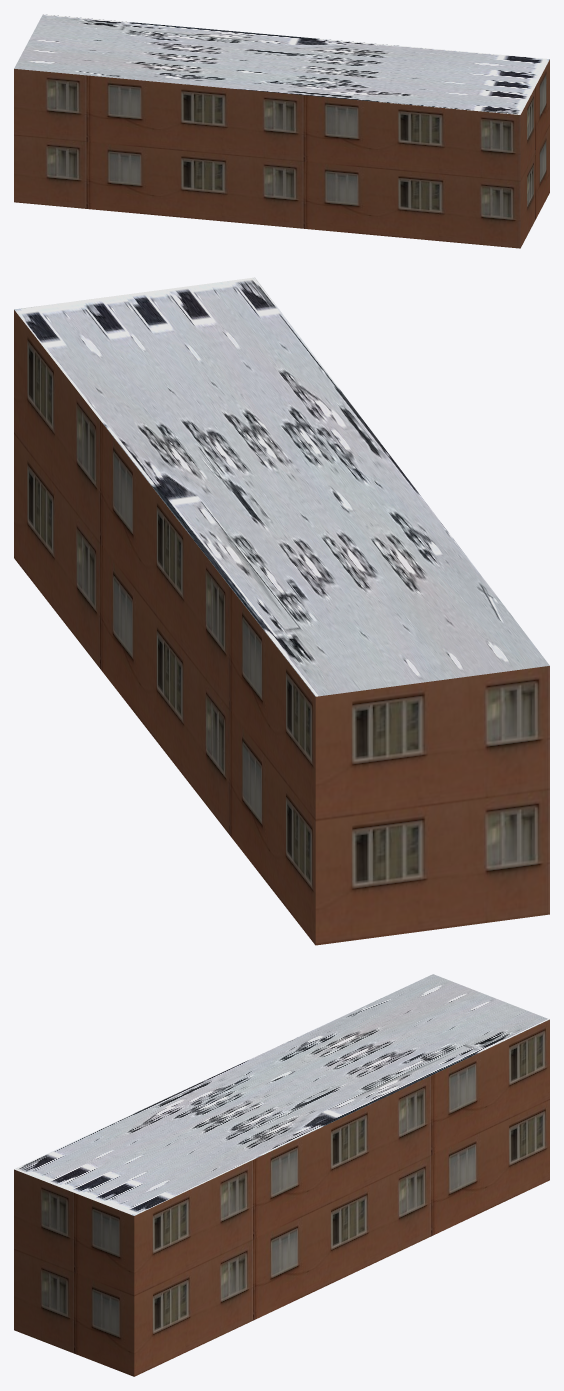
Rendered from ResTex__466.fbx.
The picture shows the model from 3 angles, top to bottom: view 1: azimuth 30°, elevation 25°; view 2: azimuth 150°, elevation 25°; view 3: azimuth 270°, elevation 25°; orthographic projection. The views are drawn at different scales.
Visible parts, largest first — view 1: CityEngineMaterial_20_m, CityEngineMaterial_4_m; view 2: CityEngineMaterial_20_m, CityEngineMaterial_4_m; view 3: CityEngineMaterial_20_m, CityEngineMaterial_4_m.
Part boxes in pixels (bbox=[...]): CityEngineMaterial_20_m: bbox=[14, 59, 549, 248]; CityEngineMaterial_4_m: bbox=[14, 14, 549, 114]; CityEngineMaterial_20_m: bbox=[14, 310, 549, 945]; CityEngineMaterial_4_m: bbox=[14, 277, 549, 696]; CityEngineMaterial_20_m: bbox=[14, 1019, 549, 1376]; CityEngineMaterial_4_m: bbox=[14, 974, 549, 1215].
Bounding box in the file's own units: 19.37 × 6 × 18.13.
Materials: 2 (2 with a texture image).
